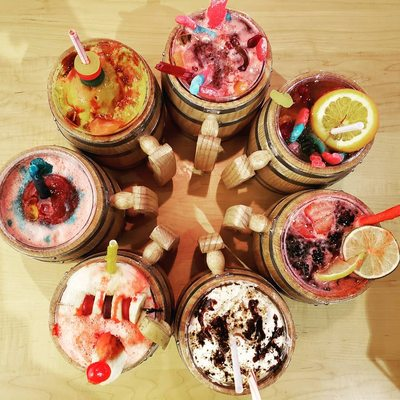sushi: (171, 272, 295, 398), (48, 37, 164, 166), (267, 189, 396, 303), (264, 72, 380, 178), (0, 146, 106, 262)
taco: (340, 225, 400, 280)
